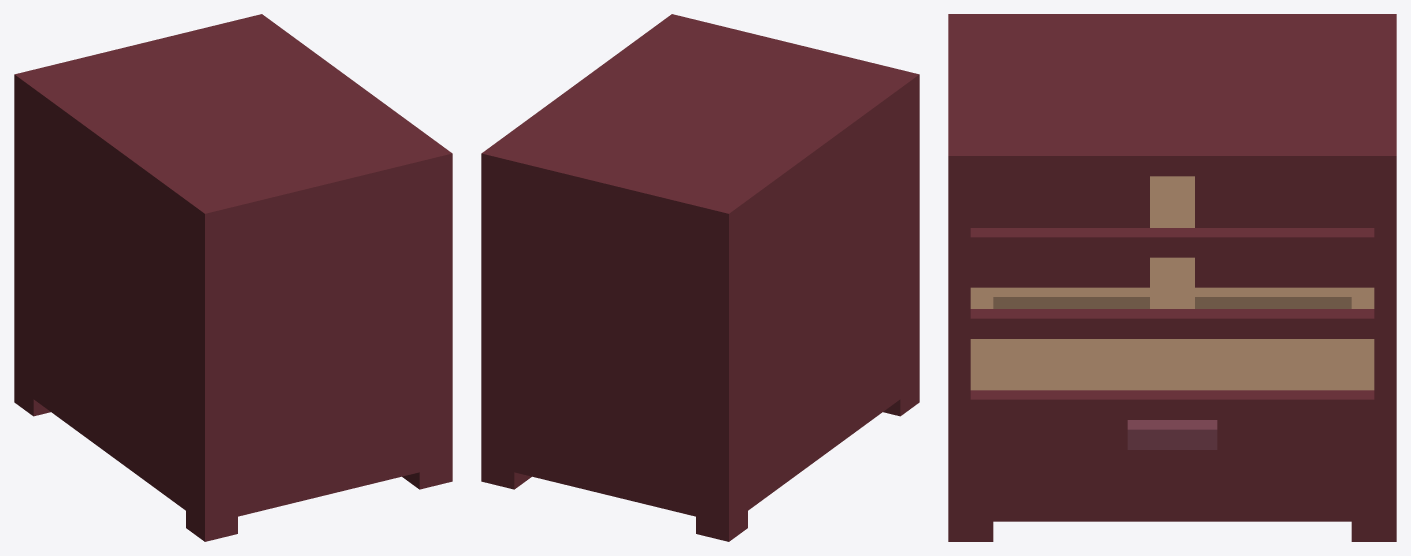
The model's file is Cabinet02.gltf.
3 renders of one model, left to right at view 1: azimuth 30°, elevation 25°; view 2: azimuth 150°, elevation 25°; view 3: azimuth 270°, elevation 25°, orthographic. The views are drawn at different scales.
Parts seen in each view (by area): view 1: Frame; view 2: Frame; view 3: Frame, Drawer.
Part boxes in pixels (x1,y1,x2,y2): Frame: (14,14,452,541); Frame: (481,14,919,541); Frame: (948,14,1396,541); Drawer: (970,287,1374,480).
Bounding box in the file's own units: 16 × 19 × 20.
